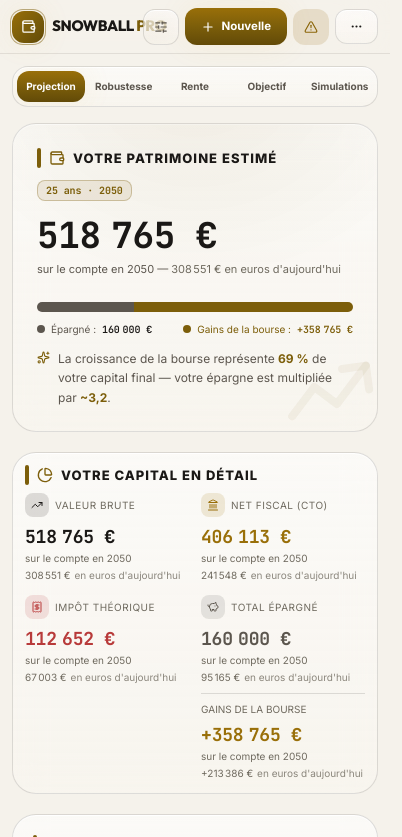
Test: menu Export — toutes les fonctionnalités d'export dans un bouton › ouvre le sous-panneau Export avec CSV, JSON et Rapport PDF au clic
Expected: the button "exporter" is not shown
Click the button named "Autres actions" at {"x": 356, "y": 27}, box [335, 9, 378, 44]
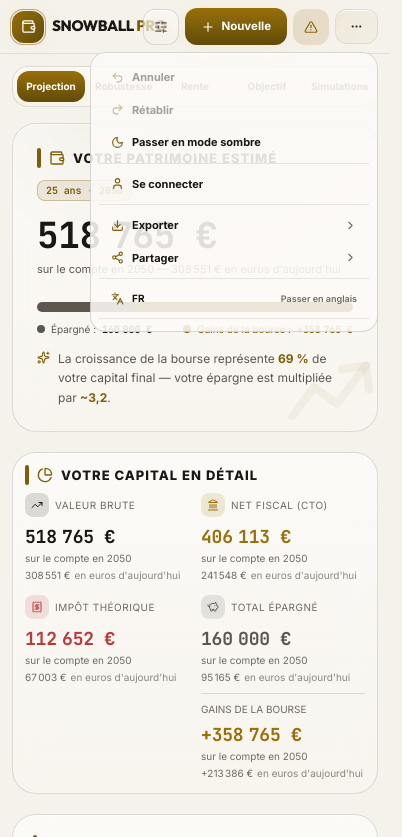
Expected: the menu item "export json" is not shown
Now the menu item "Exporter" is shown
Click the menu item "Exporter" at {"x": 155, "y": 225}, box [99, 209, 369, 242]
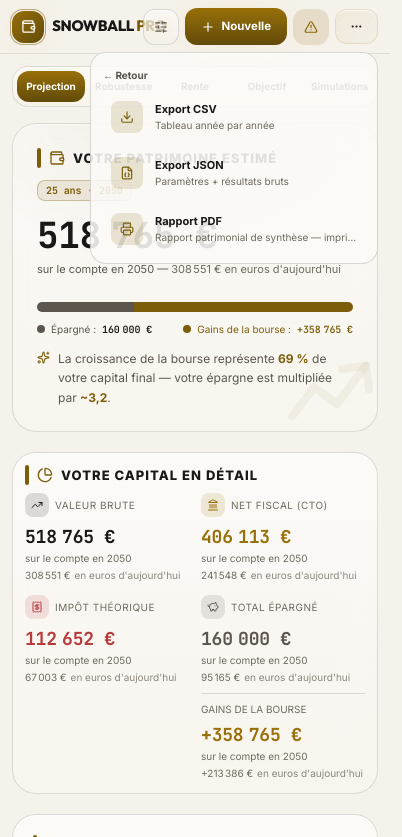
Now the menu item "Export CSV Tableau année par année" is shown, box [99, 91, 369, 143]
Now the menu item "Export JSON Paramètres + résultats bruts" is shown, box [99, 147, 369, 199]
Now the menu item "Rapport PDF" is shown, box [99, 203, 369, 255]
